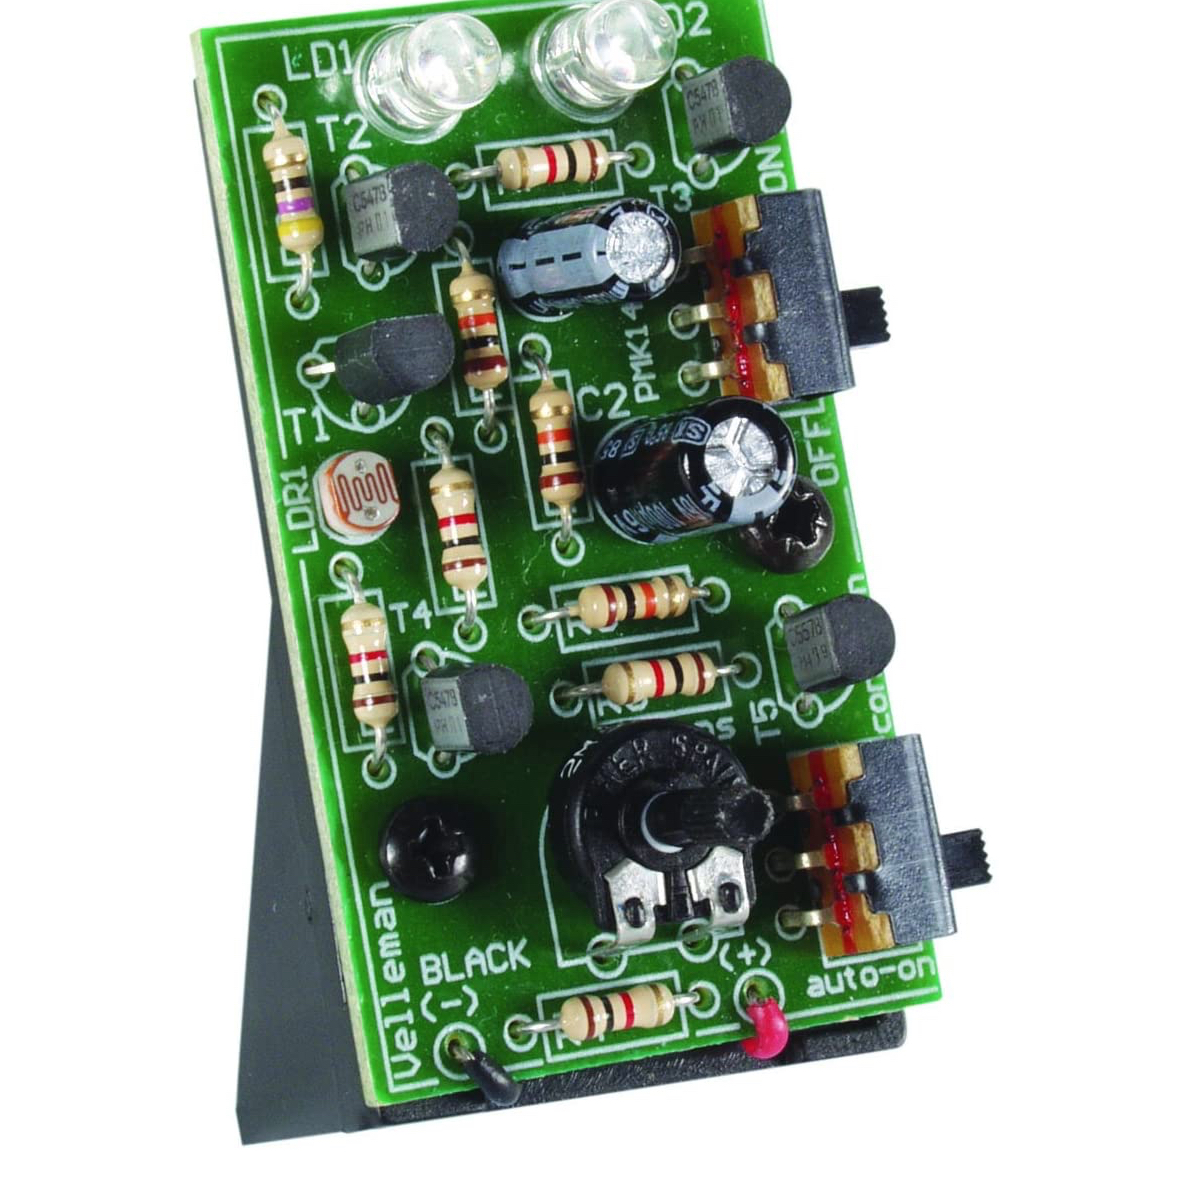Capacitor: (588, 394, 799, 548), (496, 194, 686, 321)
LED: (362, 8, 504, 137), (528, 1, 679, 119)
Resistor: (255, 123, 329, 273), (447, 258, 517, 408), (426, 460, 493, 598), (525, 378, 591, 516), (337, 600, 403, 733), (487, 133, 613, 201), (553, 980, 679, 1045), (570, 573, 696, 631), (595, 651, 721, 708)
